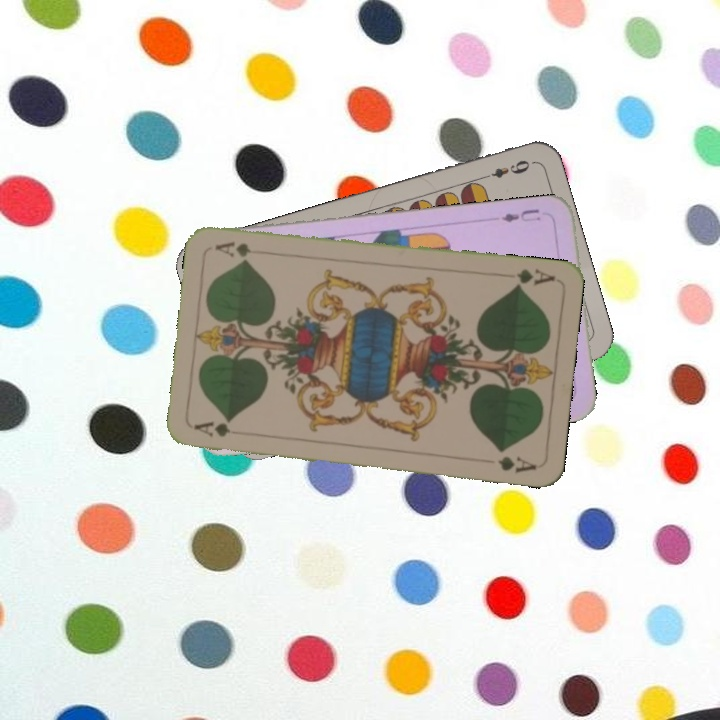E9: (477, 156, 535, 182)
EU: (497, 205, 543, 225)
GA: (510, 264, 558, 290), (190, 417, 233, 439)
